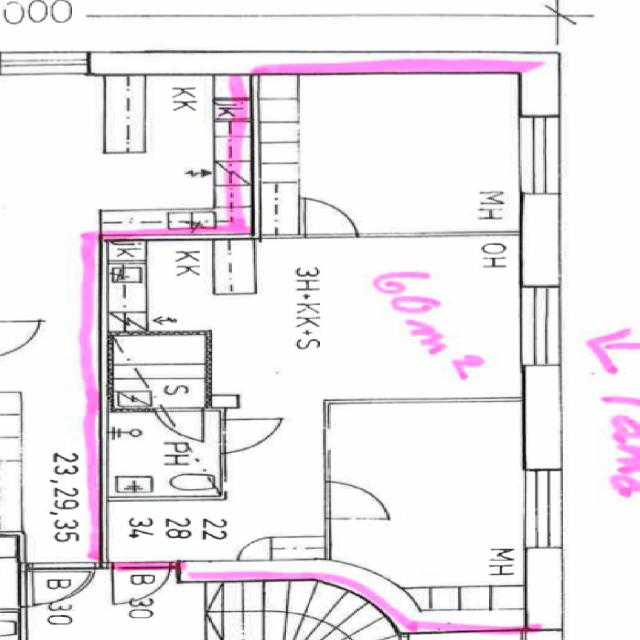door: (324, 482, 389, 518), (113, 562, 168, 604), (305, 203, 357, 239), (220, 420, 276, 451), (157, 408, 202, 441)
